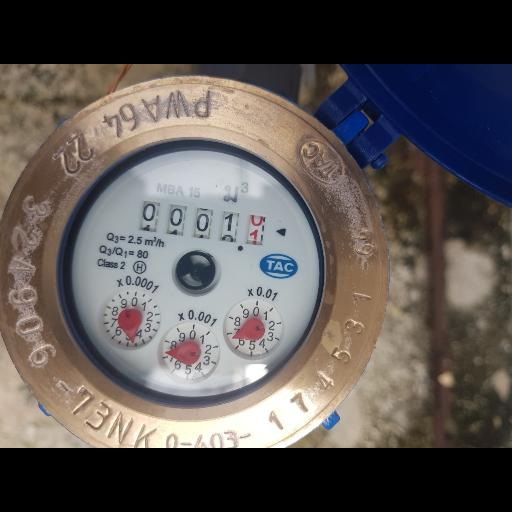0: (244, 213, 266, 247), (139, 200, 160, 233), (192, 208, 213, 241), (166, 204, 187, 236)
1: (219, 210, 239, 243)
border_water_meter_number: (135, 196, 271, 251)
